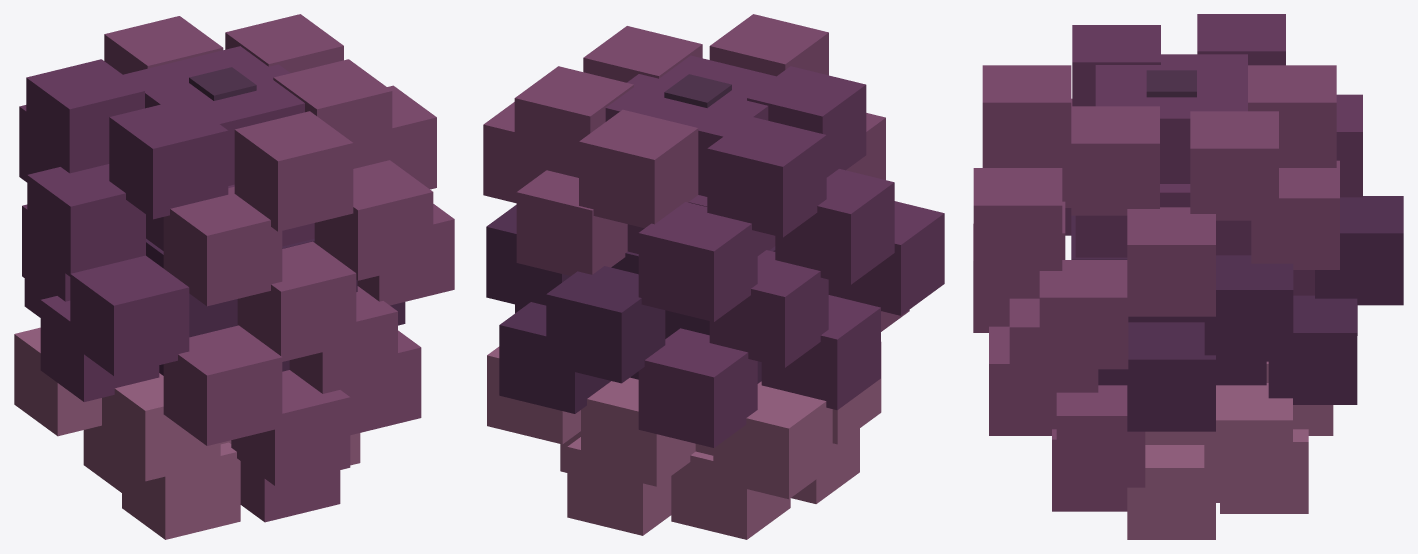
File: BB-03_boysen.glb
3 views of the same model, side by side, from view 1: azimuth 30°, elevation 25°; view 2: azimuth 150°, elevation 25°; view 3: azimuth 270°, elevation 25° (orthographic).
Parts seen in each view (by area): view 1: Boysen / Boysenberry · original workbench cubes; view 2: Boysen / Boysenberry · original workbench cubes; view 3: Boysen / Boysenberry · original workbench cubes.
Part boxes in pixels (box(x1,y1,x2,y2)): Boysen / Boysenberry · original workbench cubes: box(14, 14, 454, 539); Boysen / Boysenberry · original workbench cubes: box(483, 14, 944, 539); Boysen / Boysenberry · original workbench cubes: box(973, 14, 1403, 539).
Bounding box in the file's own units: 0.1284 × 0.1308 × 0.1271.
